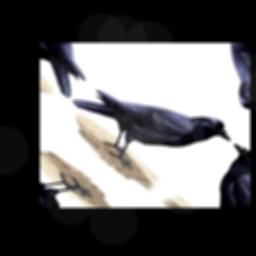Crow: (57, 51, 238, 195)
